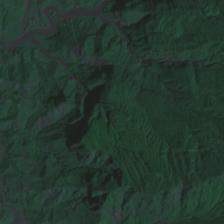landslides: (105, 11, 134, 30), (86, 73, 108, 93), (56, 105, 83, 121), (88, 53, 115, 69), (206, 7, 224, 26), (67, 148, 83, 165), (60, 130, 74, 149), (182, 60, 202, 73), (80, 187, 99, 199), (88, 157, 106, 168), (104, 0, 122, 11), (112, 209, 125, 224), (69, 90, 82, 104), (82, 93, 91, 113), (88, 65, 103, 77), (167, 60, 185, 69), (76, 46, 86, 62), (103, 209, 113, 224), (77, 112, 89, 124), (46, 88, 55, 103), (83, 201, 99, 209), (51, 100, 64, 108)
